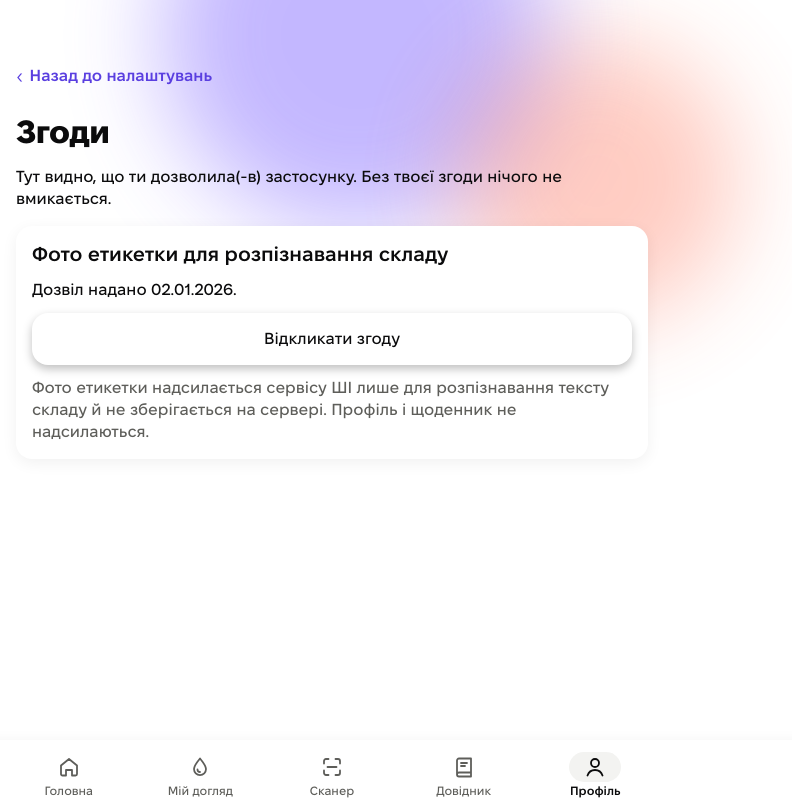
Test: consents › a granted consent is shown with its date and can be taken back
The width and height of the screenshot is (792, 810).
Click the button "Відкликати згоду": click(332, 339) [32,313,632,365]
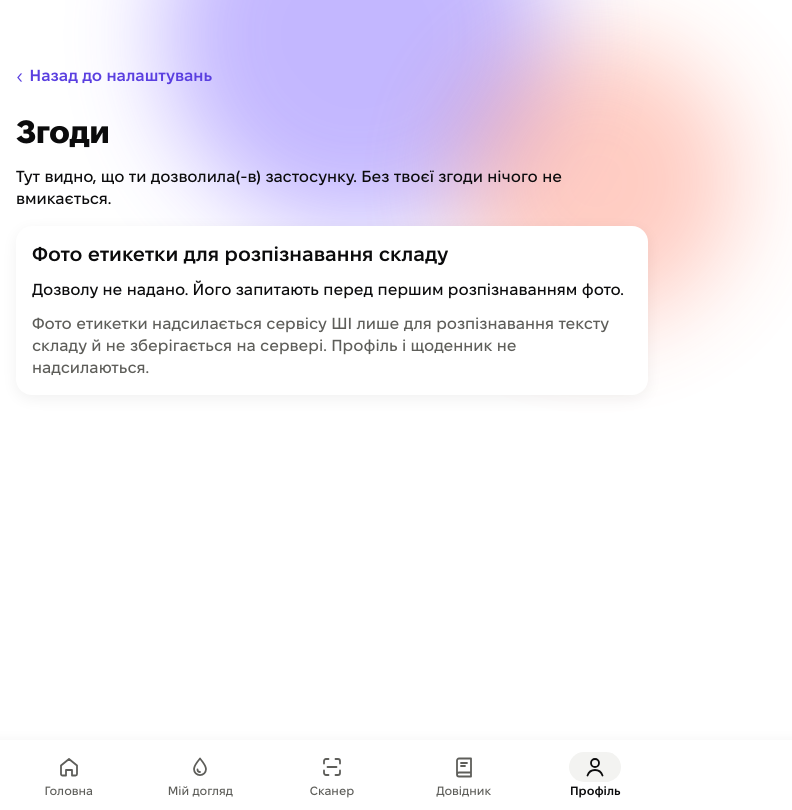
Expected: the text "Дозволу не надано. Його запитають перед першим розпізнаванням фото." is shown, [32,279,632,301]
